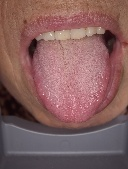tongue: (31, 41, 112, 125)
